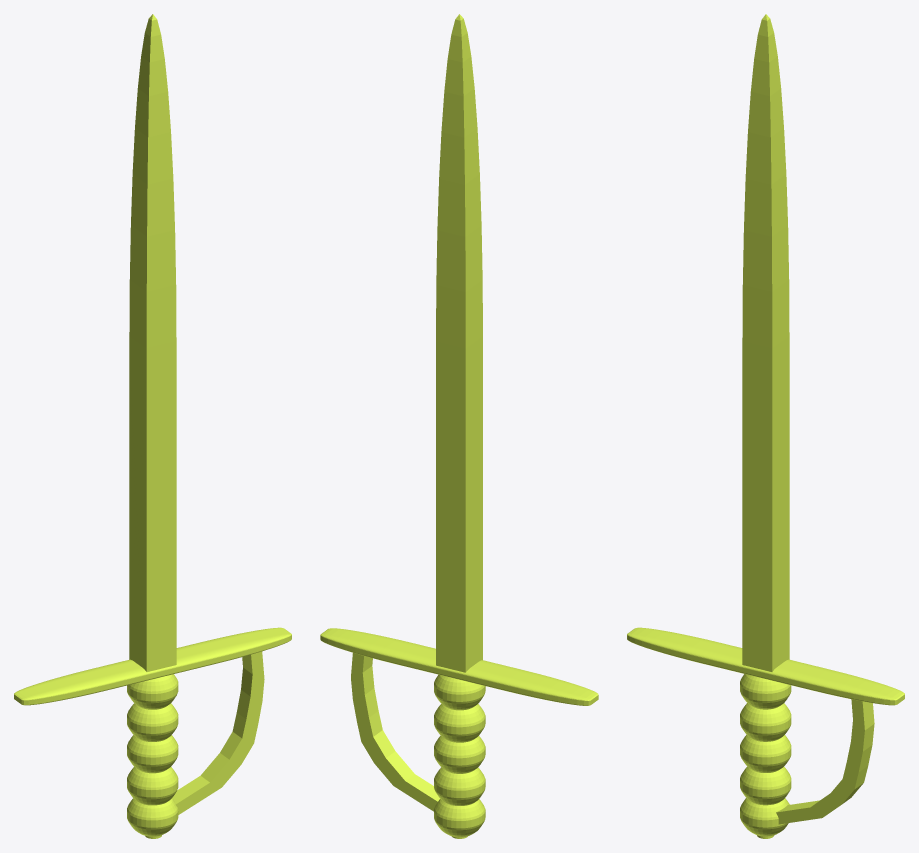
File: espadapersonaje.fbx
3 renders of one model, left to right at view 1: azimuth 30°, elevation 25°; view 2: azimuth 150°, elevation 25°; view 3: azimuth 330°, elevation 25°, orthographic.
Visible parts, largest first — view 1: EspaditaEscarbadientes; view 2: EspaditaEscarbadientes; view 3: EspaditaEscarbadientes.
Part boxes in pixels (bbox=[...]): EspaditaEscarbadientes: bbox=[14, 14, 291, 838]; EspaditaEscarbadientes: bbox=[320, 14, 598, 838]; EspaditaEscarbadientes: bbox=[627, 14, 904, 838].
Bounding box in the file's own units: 181 × 526 × 30.
